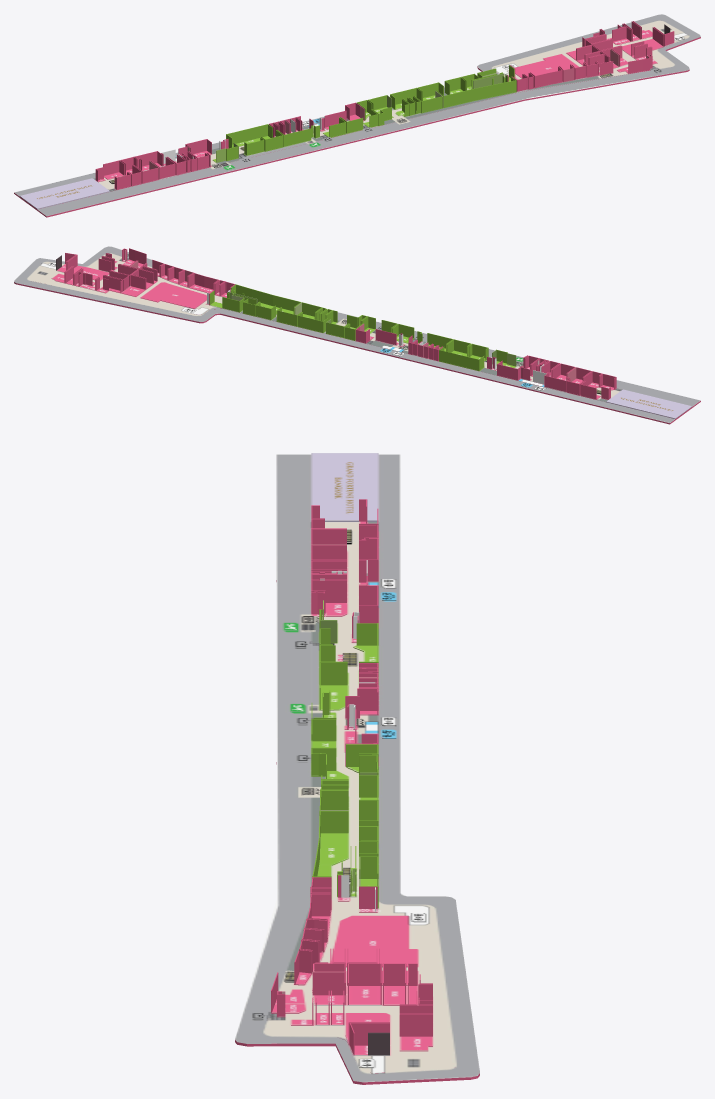
File: floor-G.glb
3 views of the same model, one above another, from view 1: azimuth 30°, elevation 25°; view 2: azimuth 150°, elevation 25°; view 3: azimuth 270°, elevation 25° (orthographic). The views are drawn at different scales.
Visible parts, largest first — view 1: G_Reused_Floor_Building_Outline_OriginalSigns, G_VisibleWalkways, G_Reused_Floor_Building_Outline, G_Reused_Hotel_Reference_Footprint_OriginalSigns, G_Interior_OriginalSigns, G_Shop_Pink_006_OriginalSigns, G_Partition.267, G_Partition.274, G_Partition.209; view 2: G_Reused_Floor_Building_Outline_OriginalSigns, G_VisibleWalkways, G_Reused_Floor_Building_Outline, G_Reused_Hotel_Reference_Footprint_OriginalSigns, G_Shop_Pink_006_OriginalSigns, G_Interior_OriginalSigns, G_Partition.209; view 3: G_Reused_Floor_Building_Outline_OriginalSigns, G_VisibleWalkways, G_Reused_Hotel_Reference_Footprint_OriginalSigns, G_Interior_OriginalSigns, G_Shop_Pink_006_OriginalSigns, G_Shop_Green_015_OriginalSigns.
Part boxes in pixels (x1=…): G_Reused_Floor_Building_Outline_OriginalSigns: x1=14, y1=14, x2=700, y2=216; G_VisibleWalkways: x1=99, y1=20, x2=689, y2=189; G_Reused_Floor_Building_Outline: x1=14, y1=37, x2=700, y2=217; G_Reused_Hotel_Reference_Footprint_OriginalSigns: x1=20, y1=178, x2=109, y2=208; G_Interior_OriginalSigns: x1=93, y1=21, x2=687, y2=191; G_Shop_Pink_006_OriginalSigns: x1=514, y1=54, x2=578, y2=77; G_Partition.267: x1=443, y1=89, x2=473, y2=107; G_Partition.274: x1=283, y1=128, x2=311, y2=146; G_Partition.209: x1=240, y1=124, x2=267, y2=142; G_Reused_Floor_Building_Outline_OriginalSigns: x1=14, y1=246, x2=700, y2=422; G_VisibleWalkways: x1=27, y1=253, x2=619, y2=399; G_Reused_Floor_Building_Outline: x1=14, y1=282, x2=700, y2=424; G_Reused_Hotel_Reference_Footprint_OriginalSigns: x1=606, y1=389, x2=691, y2=418; G_Shop_Pink_006_OriginalSigns: x1=140, y1=282, x2=206, y2=308; G_Interior_OriginalSigns: x1=32, y1=258, x2=621, y2=401; G_Partition.209: x1=439, y1=350, x2=466, y2=367; G_Reused_Floor_Building_Outline_OriginalSigns: x1=235, y1=454, x2=479, y2=1082; G_VisibleWalkways: x1=263, y1=522, x2=456, y2=1073; G_Reused_Hotel_Reference_Footprint_OriginalSigns: x1=311, y1=453, x2=378, y2=520; G_Interior_OriginalSigns: x1=268, y1=472, x2=456, y2=1073; G_Shop_Pink_006_OriginalSigns: x1=329, y1=915, x2=417, y2=966; G_Shop_Green_015_OriginalSigns: x1=317, y1=833, x2=348, y2=876.
Bounding box in the file's own units: 183 × 3.47 × 30.2.
434 materials, 1 textured.
